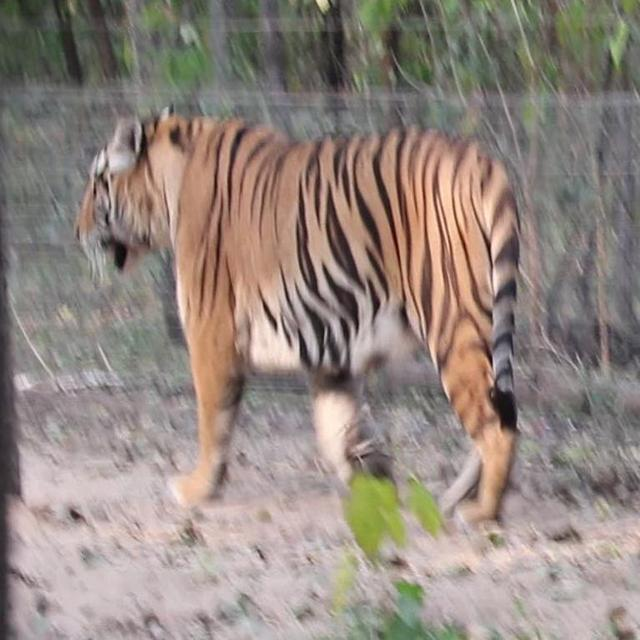tiger: (74, 102, 524, 543)
